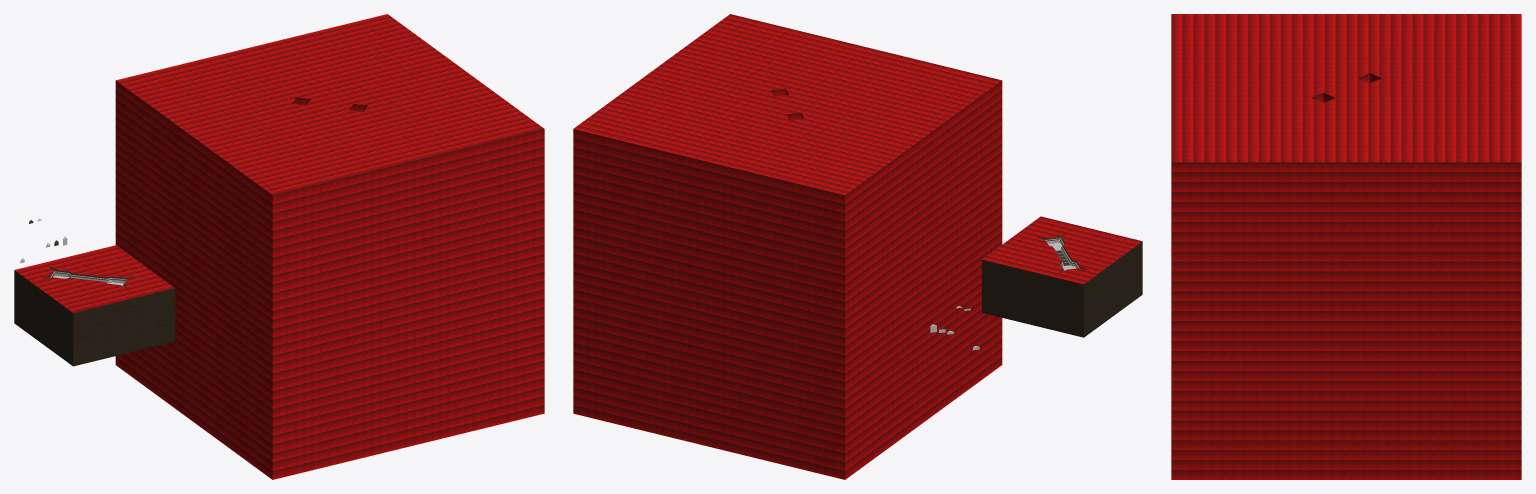
File: Dragonfly_00.obj
The picture shows the model from 3 angles, left to right: view 1: azimuth 30°, elevation 25°; view 2: azimuth 150°, elevation 25°; view 3: azimuth 270°, elevation 25°; orthographic projection. The views are drawn at different scales.
Parts seen in each view (by area): view 1: MAP01; view 2: MAP01; view 3: MAP01.
Part boxes in pixels (<box>): MAP01: <box>14,14,544,479</box>; MAP01: <box>573,14,1142,479</box>; MAP01: <box>1171,14,1521,479</box>.
Bounding box in the file's own units: 208 × 128 × 128.
